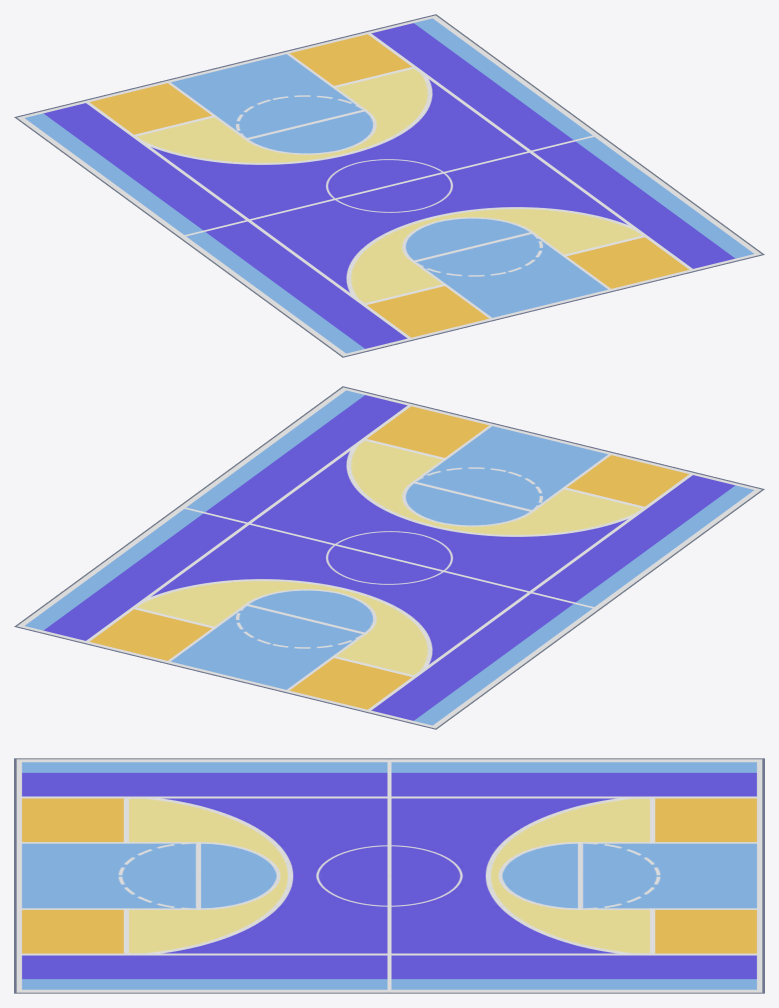
The model's file is my_autumnsports_01_field.glb.
3 views of the same model, one above another, from view 1: azimuth 30°, elevation 25°; view 2: azimuth 150°, elevation 25°; view 3: azimuth 270°, elevation 25° (orthographic). The views are drawn at different scales.
Visible parts, largest first — view 1: my_autumnsports_01_field; view 2: my_autumnsports_01_field; view 3: my_autumnsports_01_field.
Boxes of the visible parts, x1,y1,x2,y2 form: my_autumnsports_01_field: (14, 14, 764, 357); my_autumnsports_01_field: (14, 386, 764, 729); my_autumnsports_01_field: (14, 758, 764, 993).
Size of the model in its own units: 0.0209 by 0 by 0.0283.
Materials: 1 (1 with a texture image).
